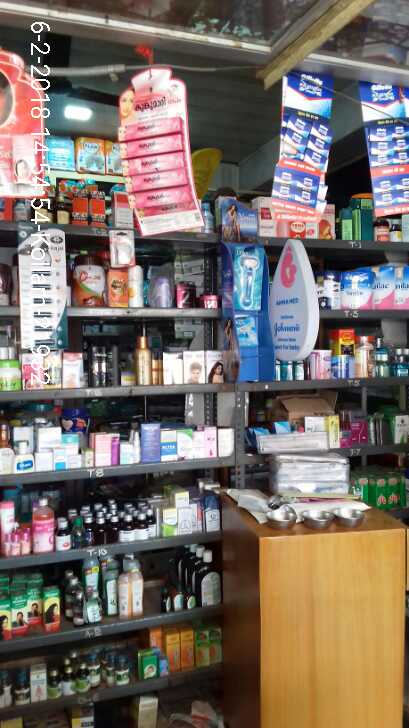venus: (233, 246, 260, 310), (230, 312, 260, 345)
